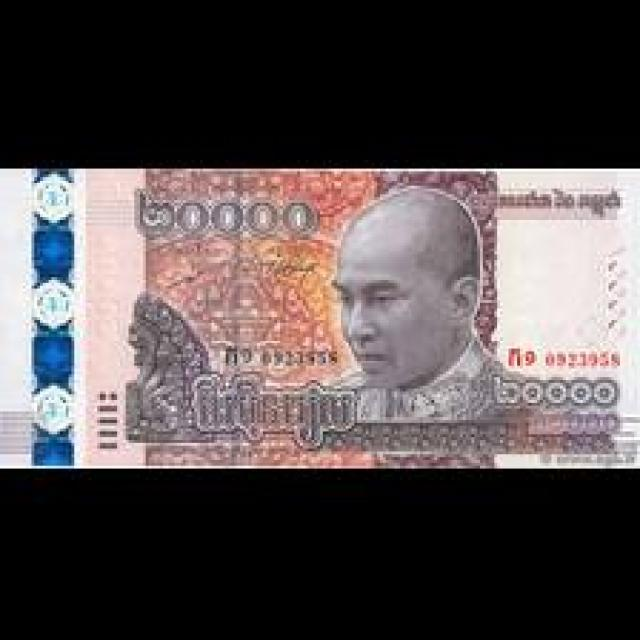banknote: (1, 169, 640, 465)
